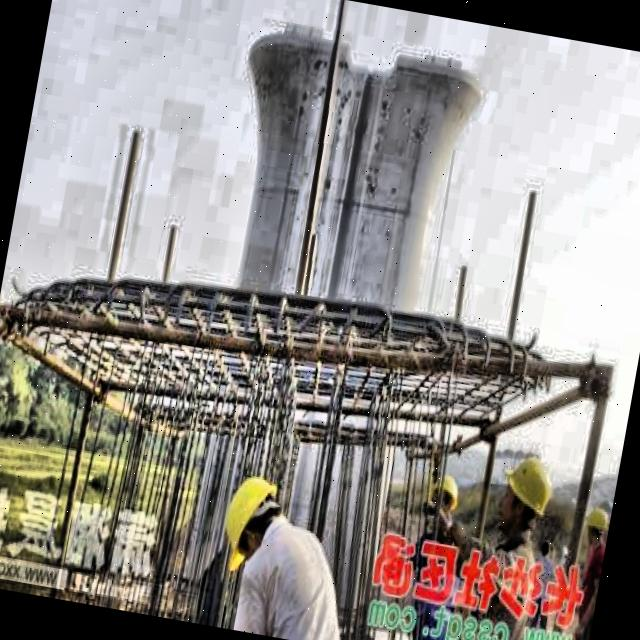helmet: (490, 439, 562, 544), (213, 468, 287, 567), (420, 472, 462, 530), (580, 501, 609, 554)
